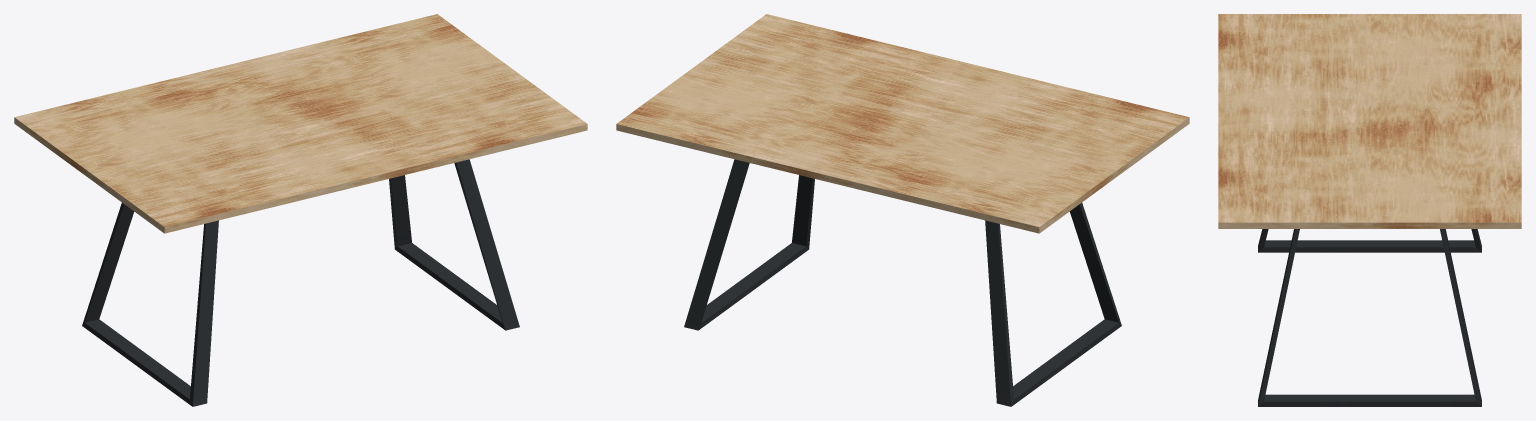
The model's file is Table_08.glb.
3 views of the same model, side by side, from view 1: azimuth 30°, elevation 25°; view 2: azimuth 150°, elevation 25°; view 3: azimuth 270°, elevation 25° (orthographic).
Parts seen in each view (by area): view 1: Table_08; view 2: Table_08; view 3: Table_08.
Part boxes in pixels (box(x1,y1,x2,y2)): Table_08: box(14, 14, 587, 406); Table_08: box(616, 14, 1189, 406); Table_08: box(1218, 14, 1521, 406).
Bounding box in the file's own units: 1.71 × 0.795 × 1.05.
Materials: 2 (2 with a texture image).
